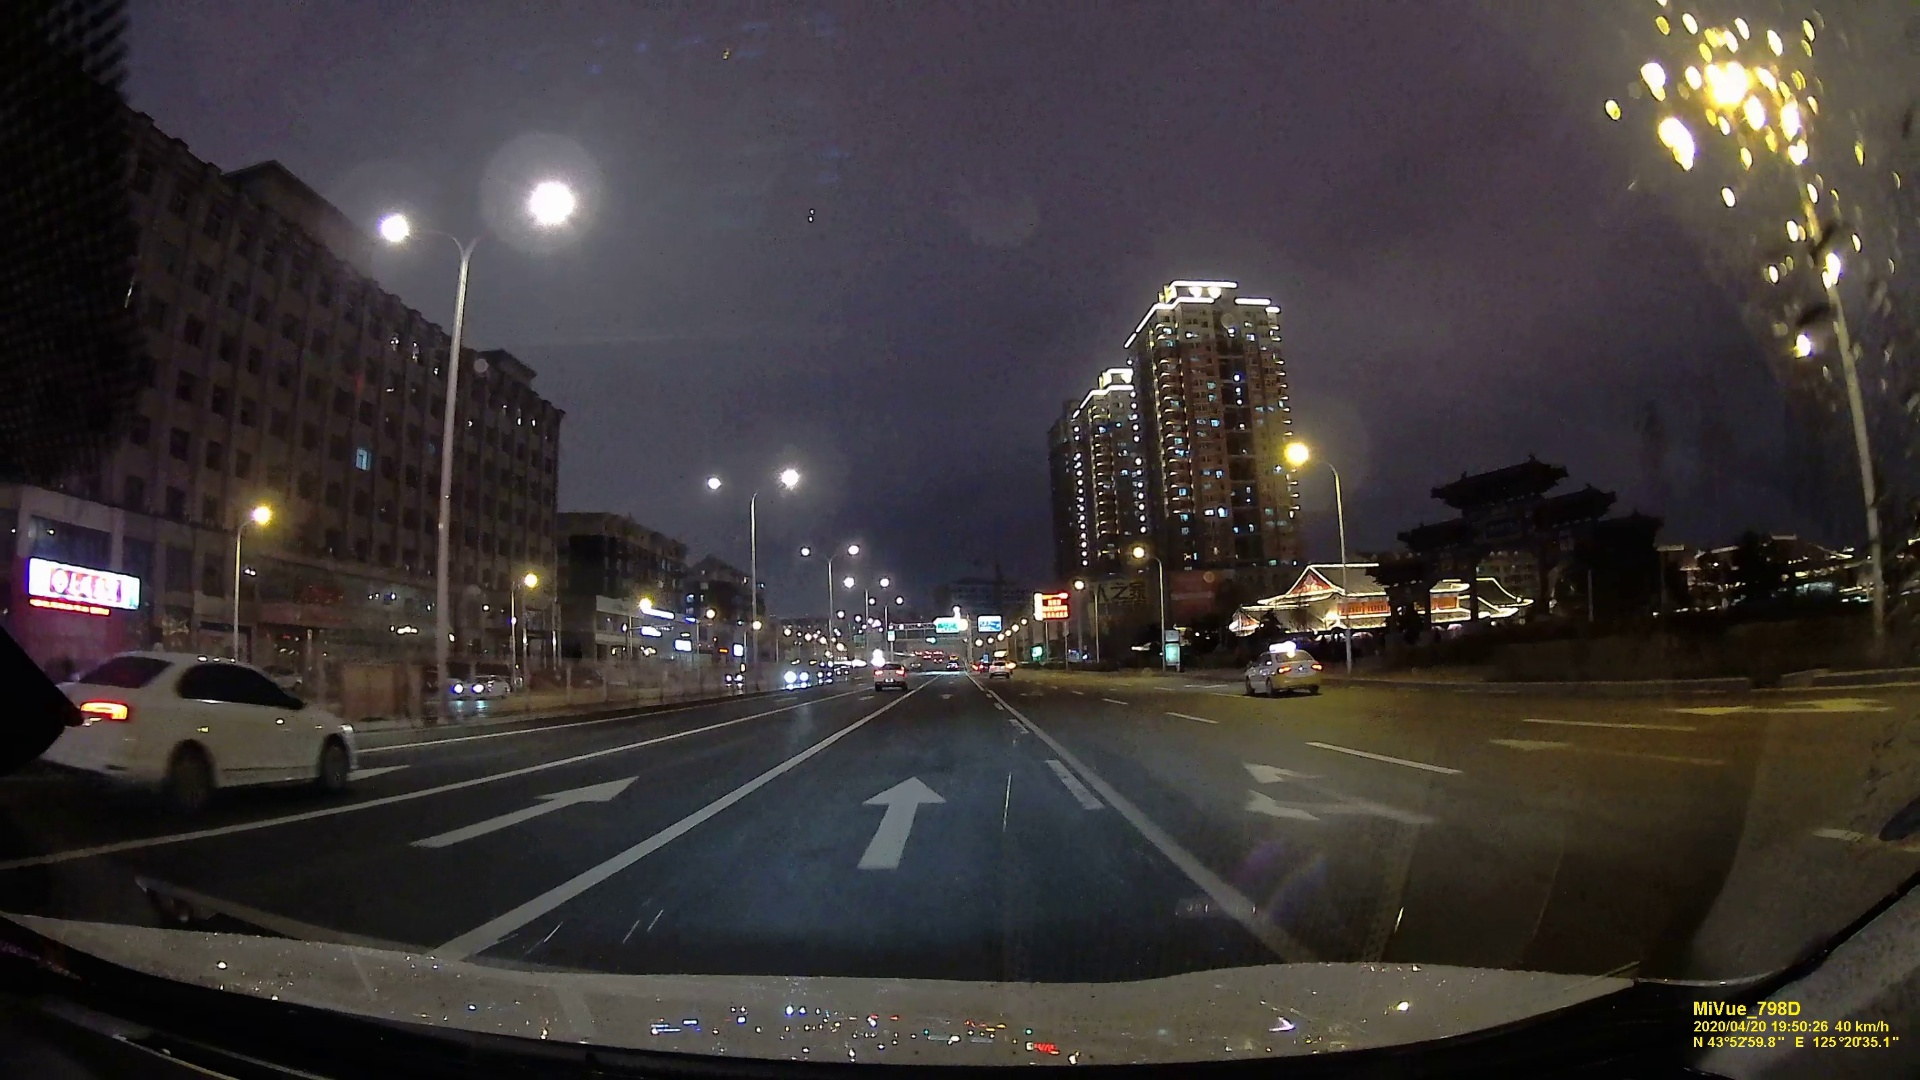traffic_sign: (936, 615, 957, 633), (978, 615, 1000, 632)
vehicle: (45, 647, 363, 808), (1246, 646, 1327, 698), (450, 673, 508, 700), (872, 662, 907, 690), (990, 658, 1009, 676)
